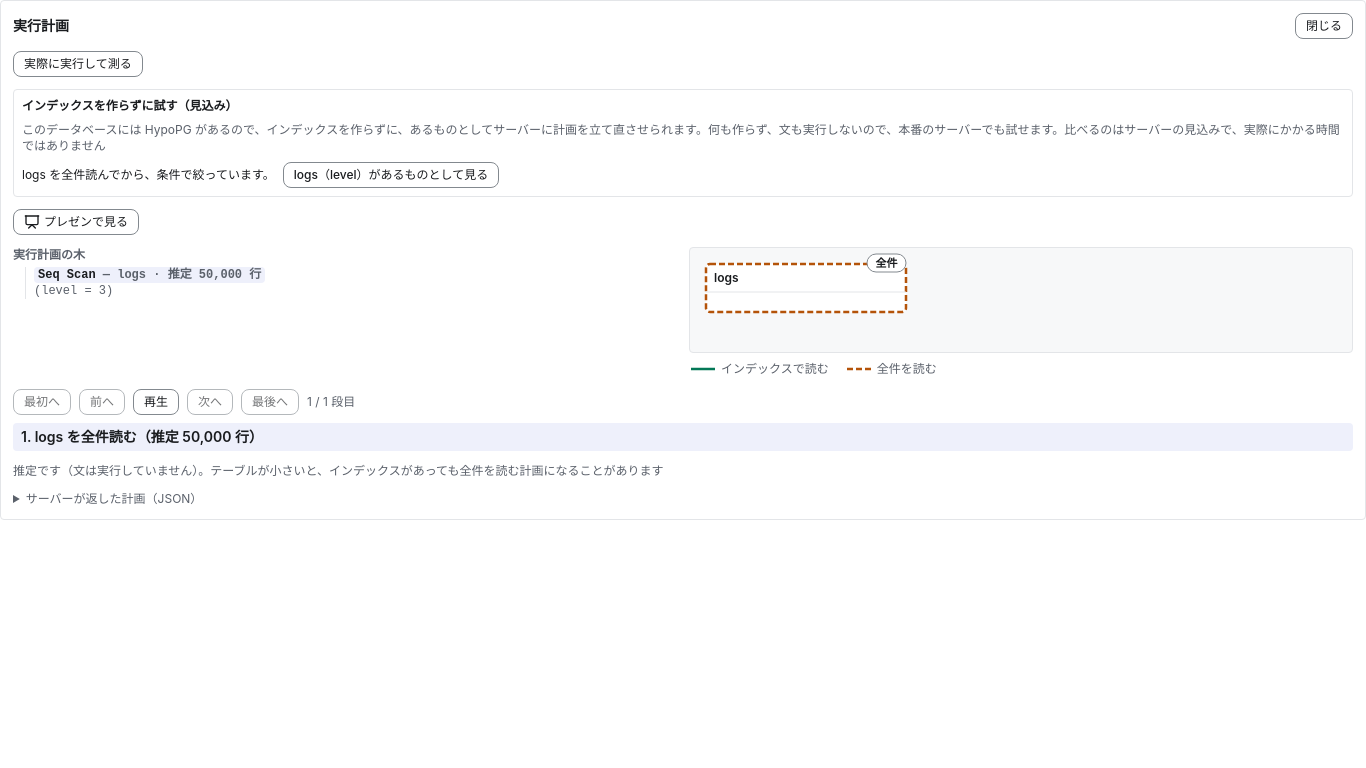
PlanView › trying an index without building it › shows the run once measured, not the plan with an index assumed
Click the button "logs（level）があるものとして見る".
click(391, 175)  # box [283,162,499,188]
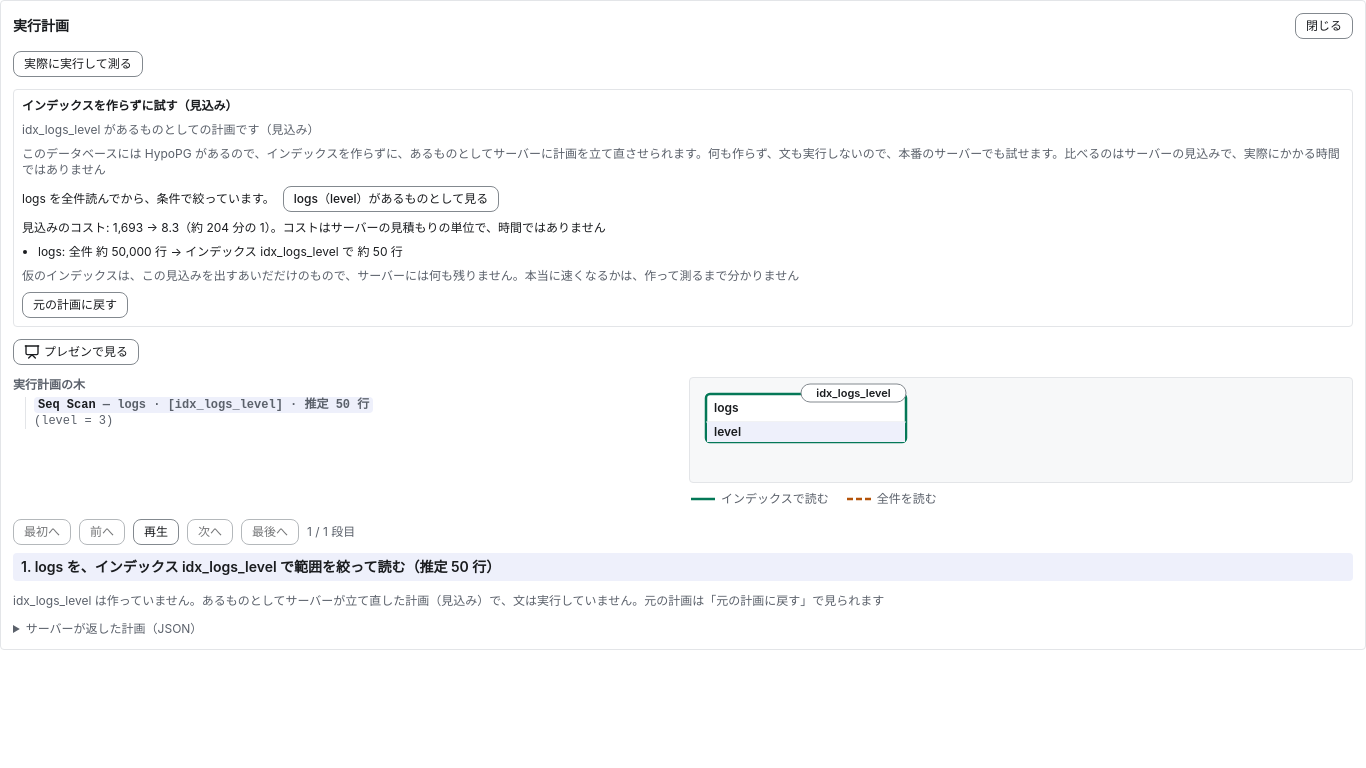
Click the button "実際に実行して測る".
click(78, 64)  # box [13,51,143,77]
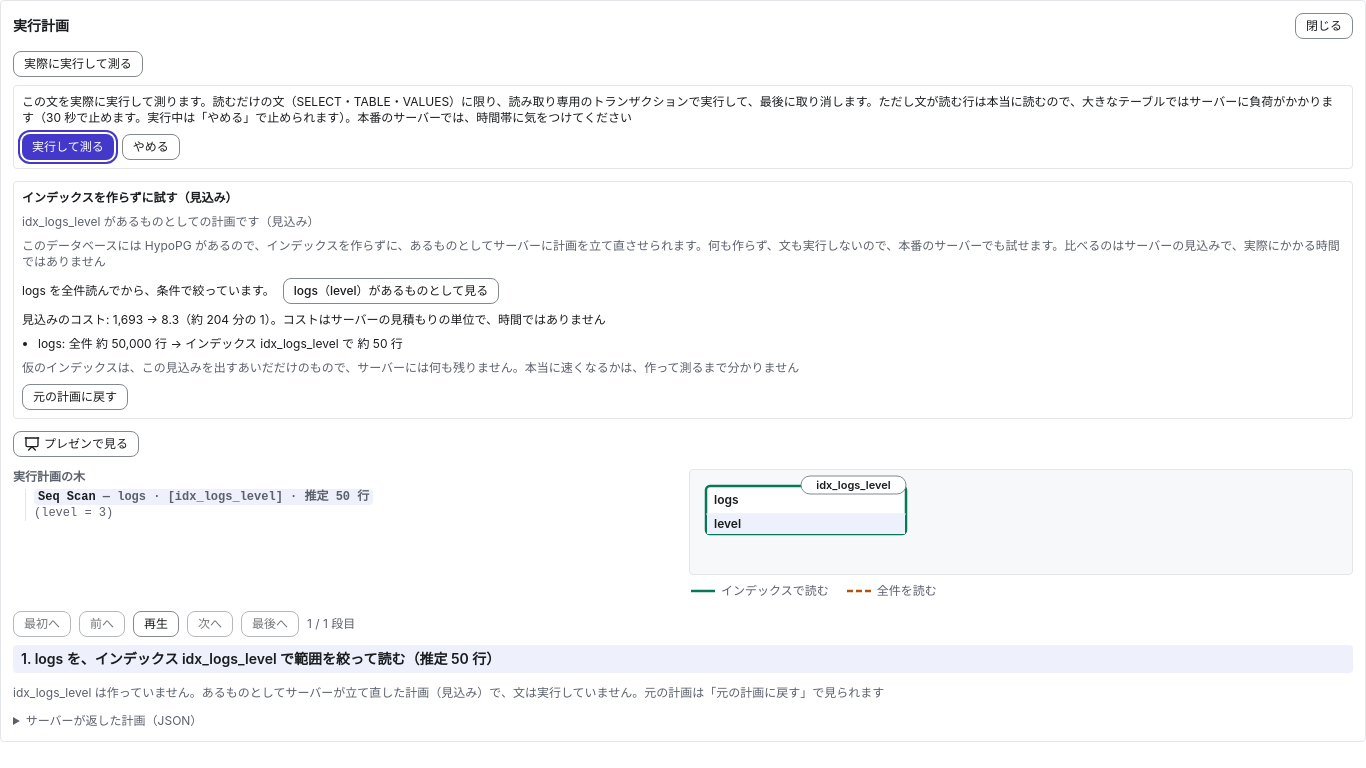
Click the button "実行して測る".
click(68, 147)  # box [22,134,114,160]
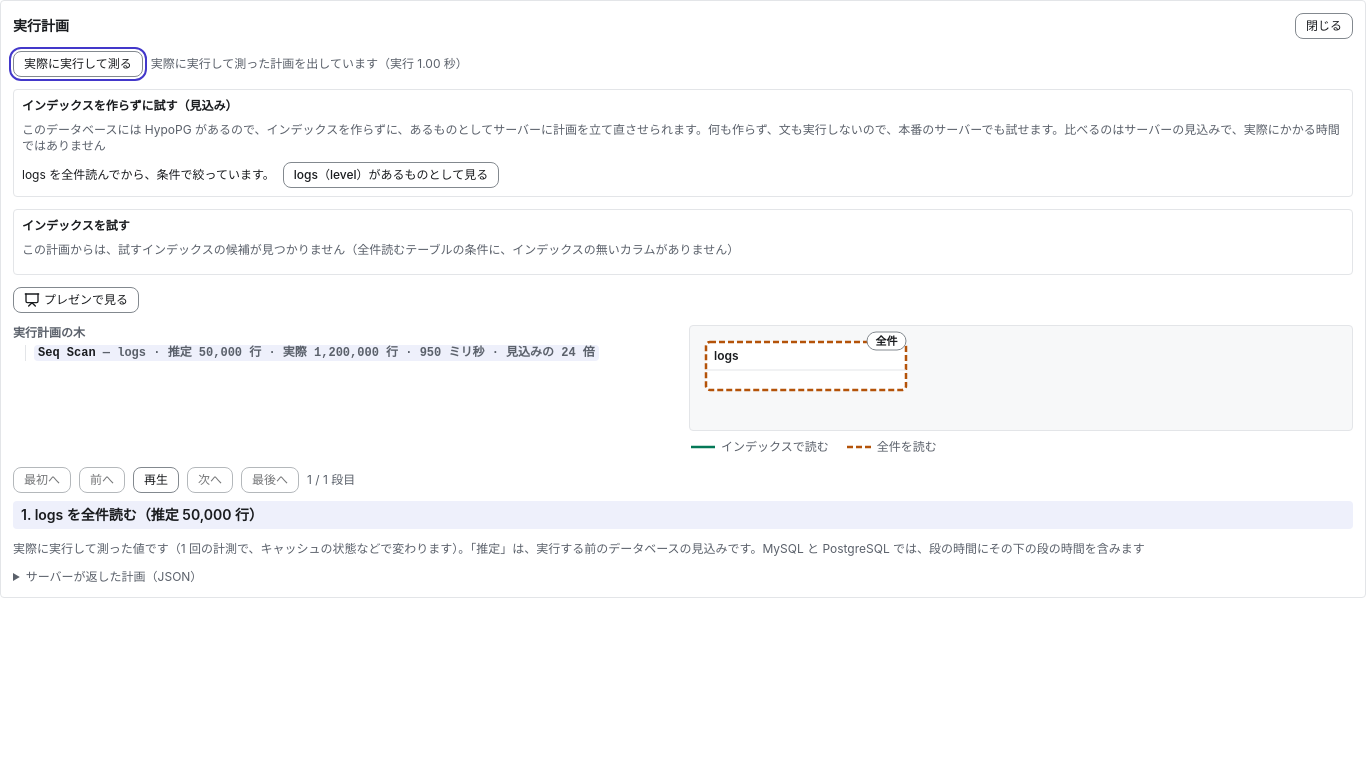
Now the text "実際に実行して測った値です（1 回の計測で、キャッシュの状態などで変わります）。「推定」は、実行する前のデータベースの見込みです。MySQL と PostgreSQL では、段の時間にその下の段の時間を含みます" is shown, box [13,541,1145,556]
